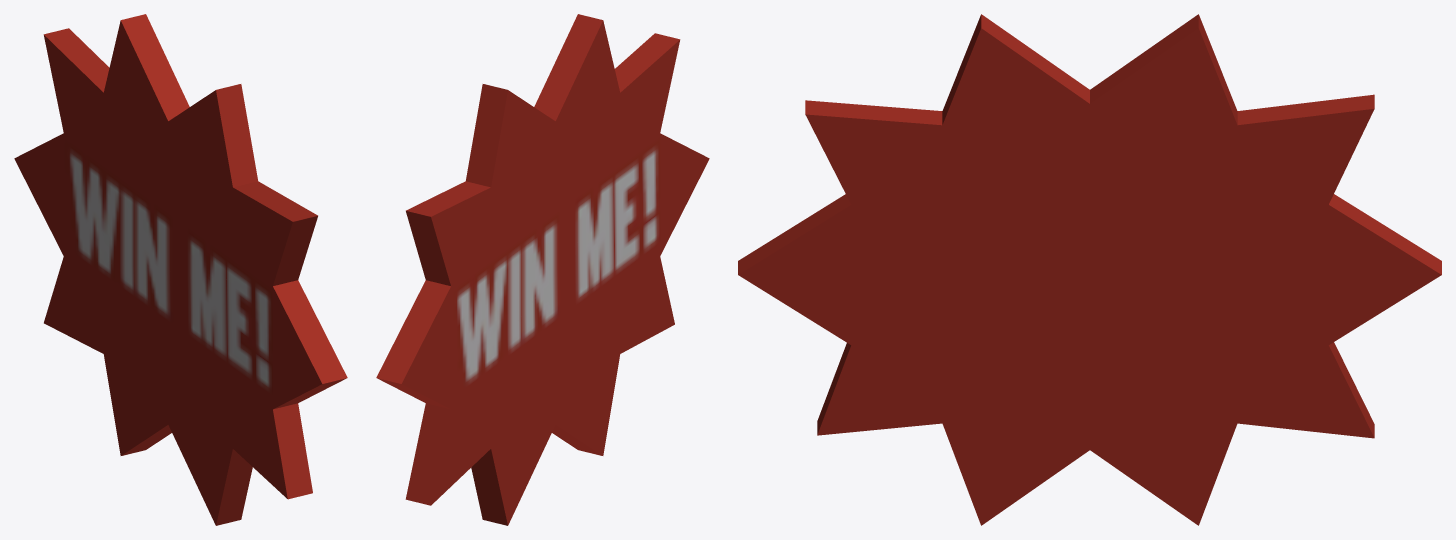
File: SM_Prop_Sign_Win_Me_01.obj
3 renders of one model, left to right at view 1: azimuth 30°, elevation 25°; view 2: azimuth 150°, elevation 25°; view 3: azimuth 270°, elevation 25°, orthographic. The views are drawn at different scales.
Parts seen in each view (by area): view 1: SM_Prop_Sign_Win_Me_01_0; view 2: SM_Prop_Sign_Win_Me_01_0; view 3: SM_Prop_Sign_Win_Me_01_0.
Part boxes in pixels (<box>): SM_Prop_Sign_Win_Me_01_0: <box>14,14,347,525</box>; SM_Prop_Sign_Win_Me_01_0: <box>376,14,709,525</box>; SM_Prop_Sign_Win_Me_01_0: <box>738,14,1441,525</box>.
Bounding box in the file's own units: 0.0161 × 0.2648 × 0.3392.
Materials: 1 (1 with a texture image).
